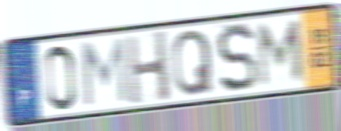0: (43, 43, 77, 113)
H: (124, 28, 173, 107)
M: (80, 36, 130, 109), (257, 18, 305, 89)
Q: (171, 28, 215, 99)
S: (214, 21, 259, 96)
